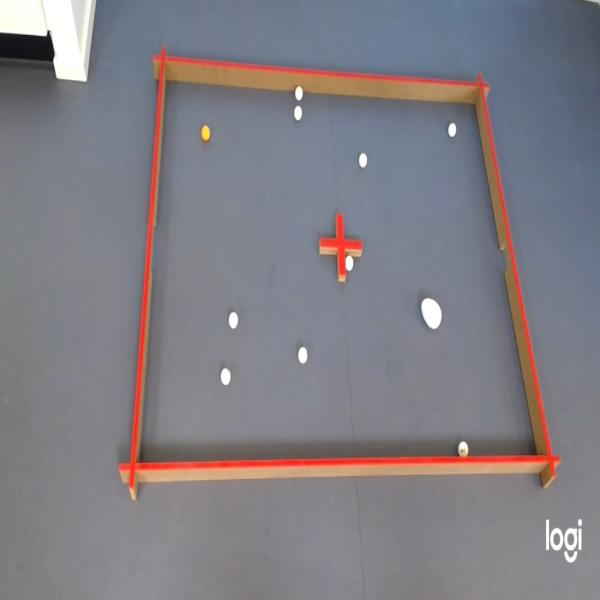Easter: (413, 275, 450, 340)
ball: (216, 357, 234, 392), (353, 144, 372, 176), (445, 109, 460, 148), (292, 338, 310, 369), (223, 306, 242, 335), (197, 114, 212, 147), (455, 431, 470, 459), (294, 101, 305, 131), (345, 252, 356, 274), (294, 85, 308, 102)
goal: (144, 218, 163, 277), (498, 237, 522, 273)
obstacle: (321, 196, 363, 289)
wall: (157, 436, 453, 495), (292, 42, 470, 104), (499, 275, 559, 456), (469, 57, 515, 235), (118, 279, 154, 504), (175, 40, 291, 107), (144, 31, 173, 210), (452, 457, 563, 492)
